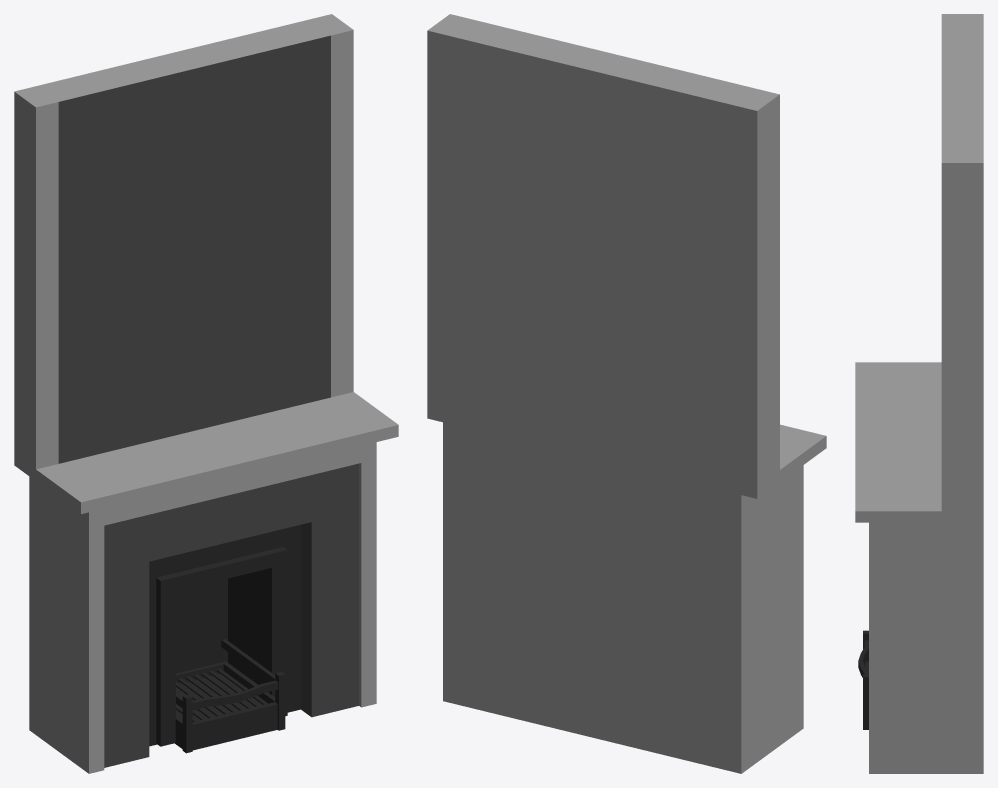
Rendered from Fireplace_01.fbx.
3 views of the same model, side by side, from view 1: azimuth 30°, elevation 25°; view 2: azimuth 150°, elevation 25°; view 3: azimuth 270°, elevation 25° (orthographic). The views are drawn at different scales.
Parts seen in each view (by area): view 1: Fireplace_01; view 2: Fireplace_01; view 3: Fireplace_01.
Boxes of the visible parts, box(x1,y1,x2,y2) form: Fireplace_01: box(14, 14, 398, 773); Fireplace_01: box(427, 14, 826, 773); Fireplace_01: box(855, 14, 983, 773).
Size of the model in its own units: 1.58 by 3.05 by 0.5753.
